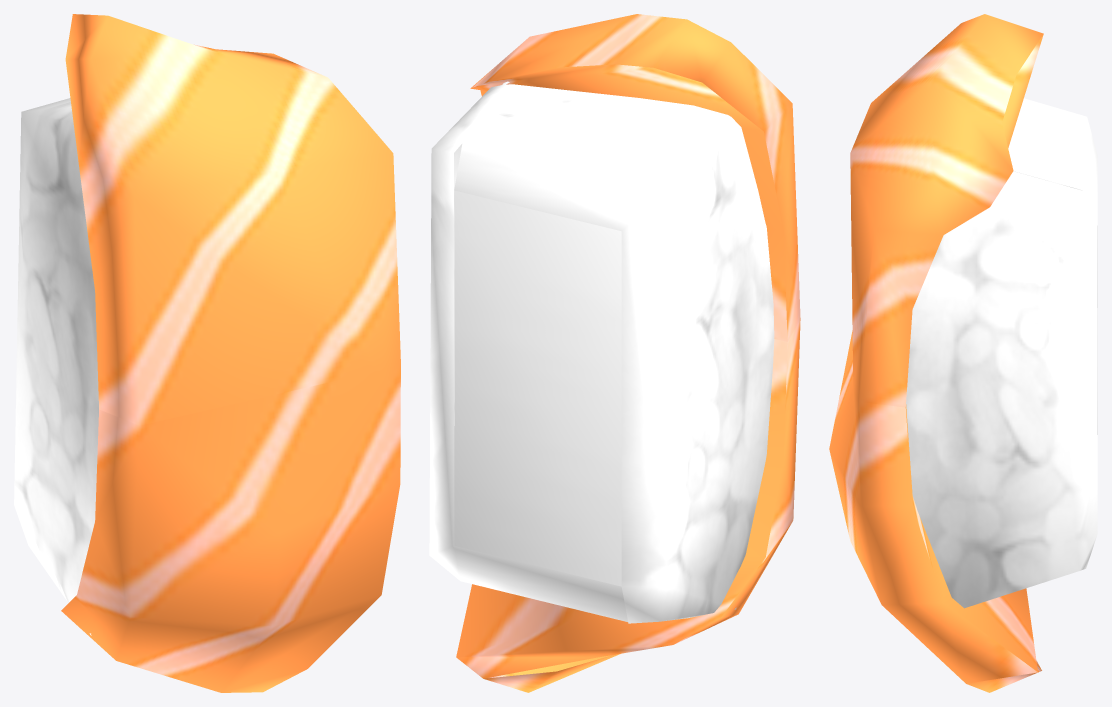
The model's file is orange_nigirisushi.glb.
The picture shows the model from 3 angles, left to right: view 1: azimuth 30°, elevation 25°; view 2: azimuth 150°, elevation 25°; view 3: azimuth 270°, elevation 25°; orthographic projection. The views are drawn at different scales.
Parts seen in each view (by area): view 1: Orange_NigiriSushi; view 2: Orange_NigiriSushi; view 3: Orange_NigiriSushi.
Part boxes in pixels (left/top/right/bottom): Orange_NigiriSushi: left=14, top=14, right=400, bottom=692; Orange_NigiriSushi: left=429, top=14, right=800, bottom=692; Orange_NigiriSushi: left=829, top=14, right=1097, bottom=692.
Size of the model in its own units: 0.3434 by 0.815 by 0.3234.
1 material, 1 textured.
